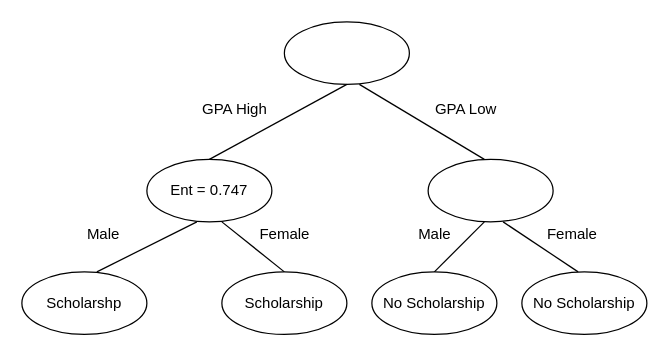
This 669x356 diagram has some shape labels left out. The shapes that lost their labels are listed below. From the top down, each one's centre as x and y in pixels, then its label:
At [346,52]: "Ent = 0.991 Gain = 0.427".
At [490,190]: "Ent = 0.365".
